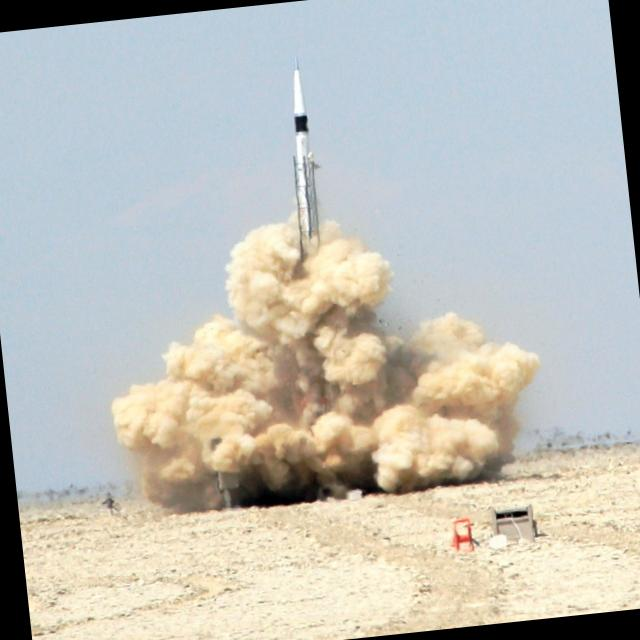rocket: (267, 60, 340, 321)
